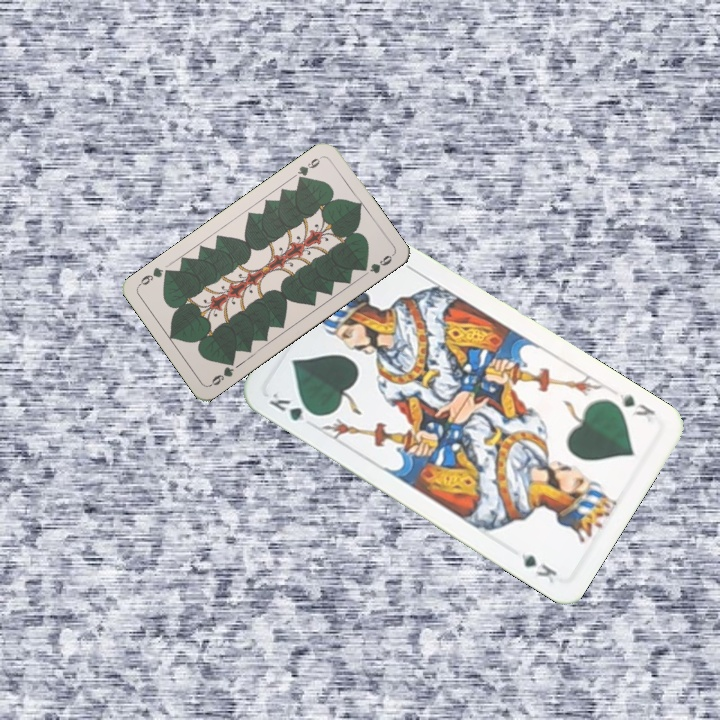G9: (206, 355, 237, 389), (294, 152, 325, 184)
GK: (264, 388, 321, 424), (615, 389, 659, 425)
